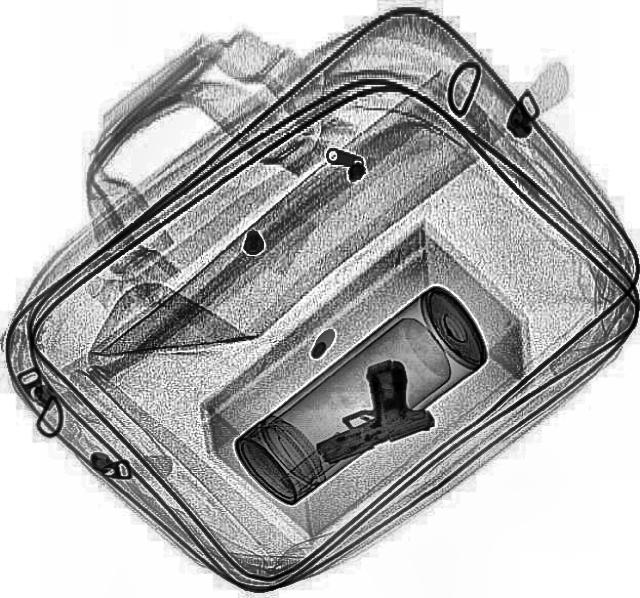Gun: (288, 354, 437, 466)
